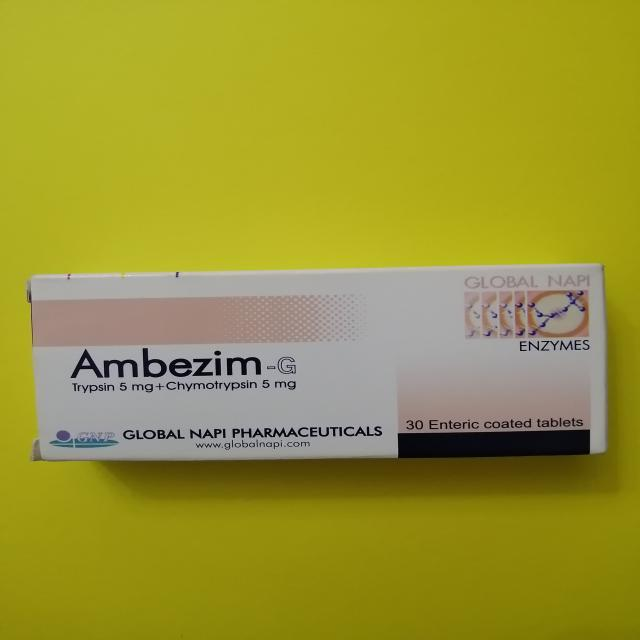Medicine Name: (61, 344, 272, 382)
